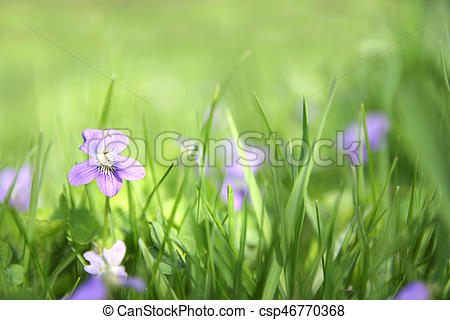violet: (70, 128, 147, 197), (82, 245, 131, 285)
